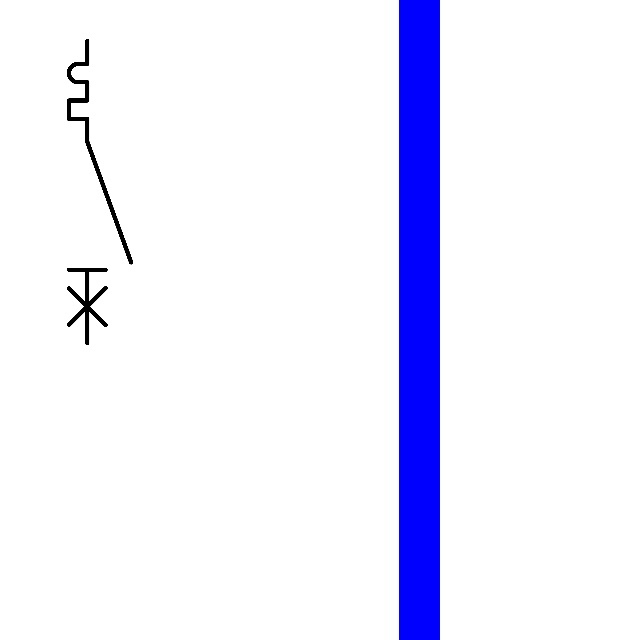interruptor_termomagnetico: (61, 33, 139, 351)
